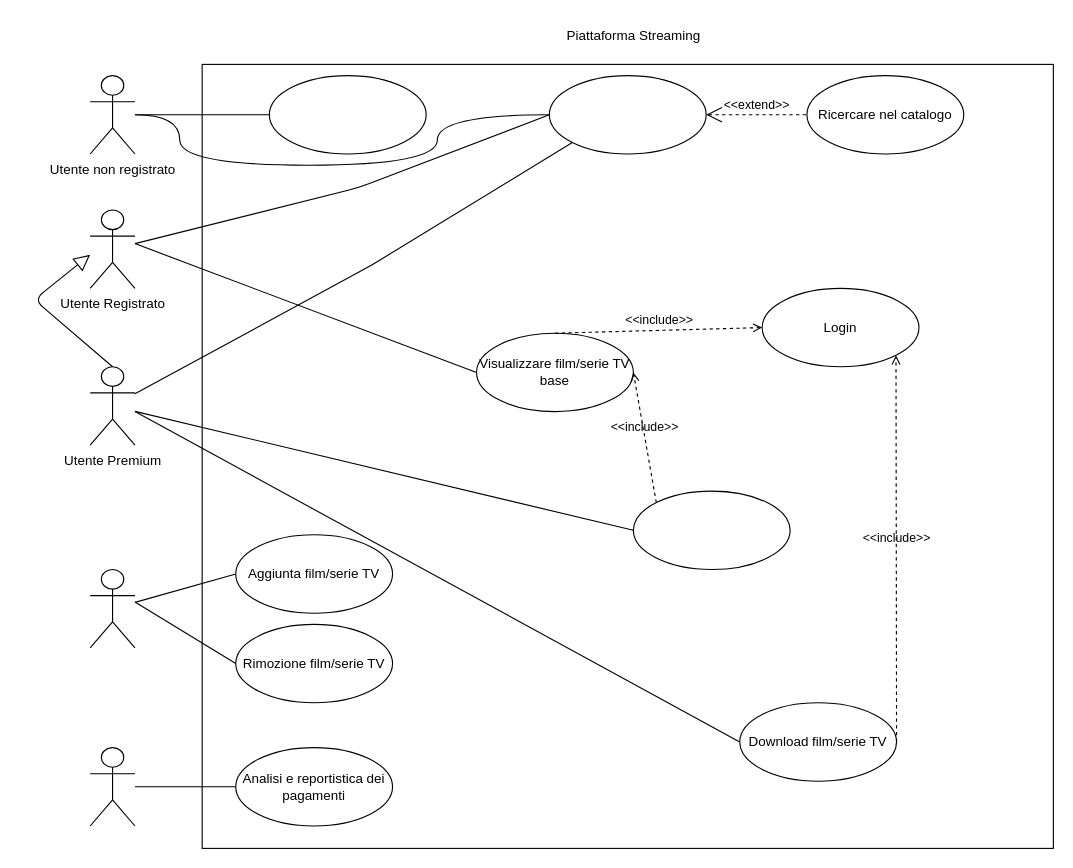
Image size: 1073x868. Some labels were removed from this diagram. The box of each missing label's shape, as (x1, y1, x2, y2) in pixels:
Amministratore: (89, 568, 135, 648)
Registrazione: (268, 74, 426, 154)
Segretaria: (89, 746, 135, 826)
Sfogliare catalogo: (548, 74, 706, 154)
Visualizzare film/serie TV premium: (632, 490, 790, 570)
